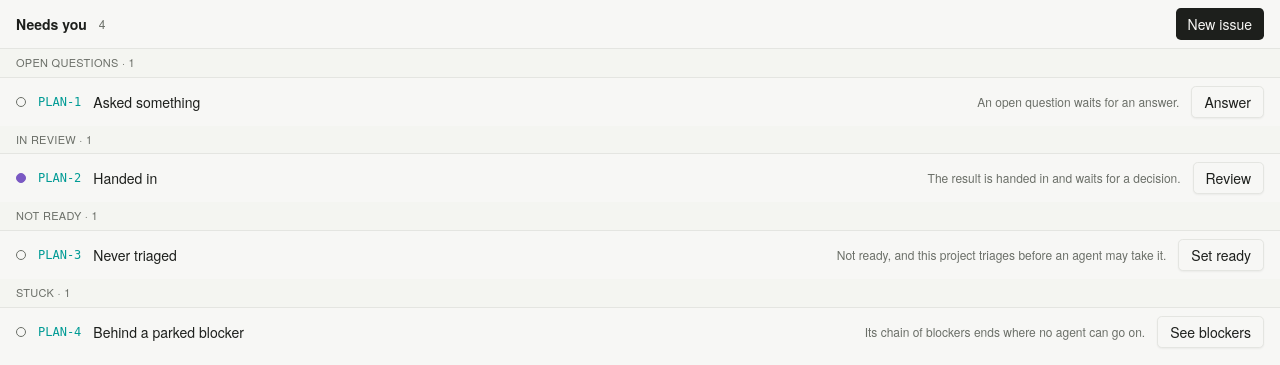
Scenario: sets ready in place and reads the list again
Step 1. Click the button "Set ready" → [1221, 255], box [1178,239,1264,271]
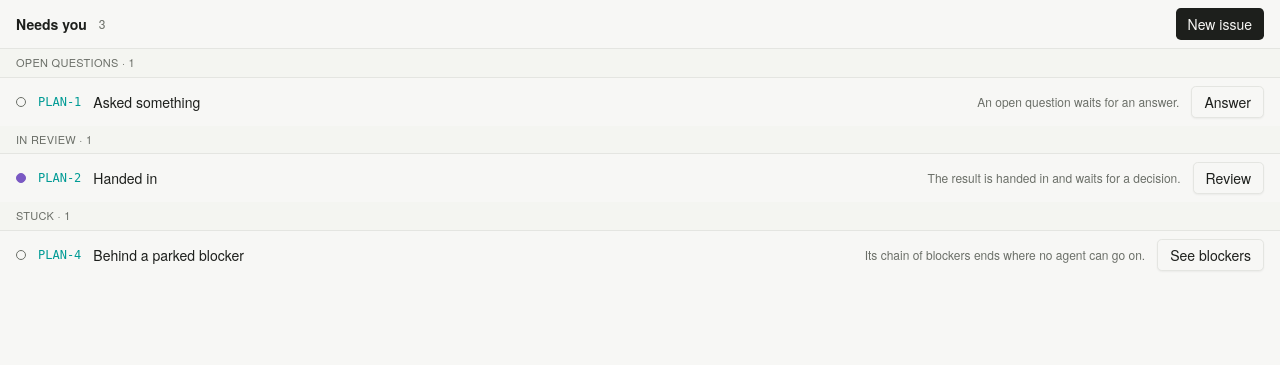
Now the text "Never triaged" is gone
Now the heading "Not ready" is gone
